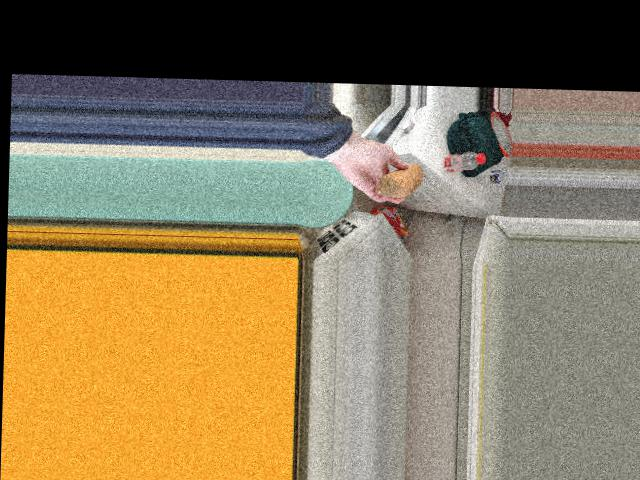sweet_potato: (381, 165, 423, 198)
